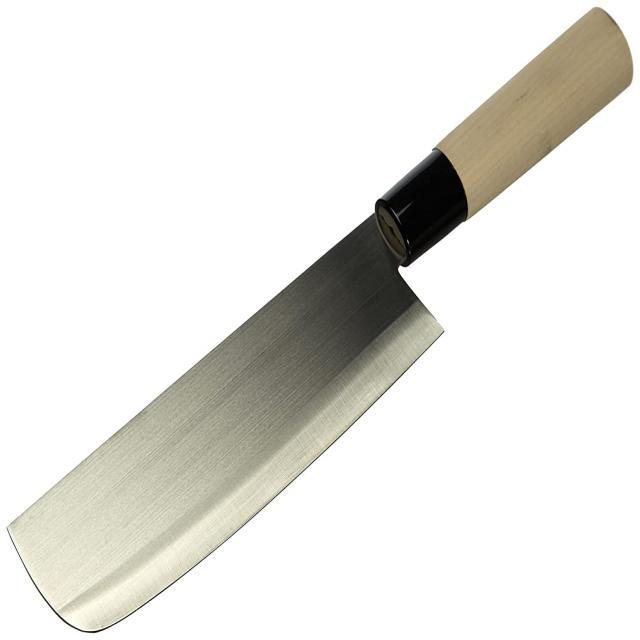knife: (1, 7, 637, 637)
